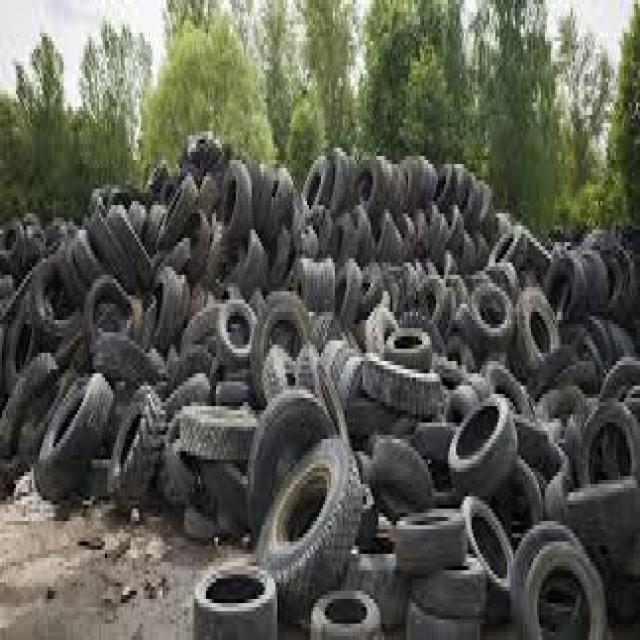Rubber -Non-Biodegradable but Recyclable-: (0, 138, 640, 640)
